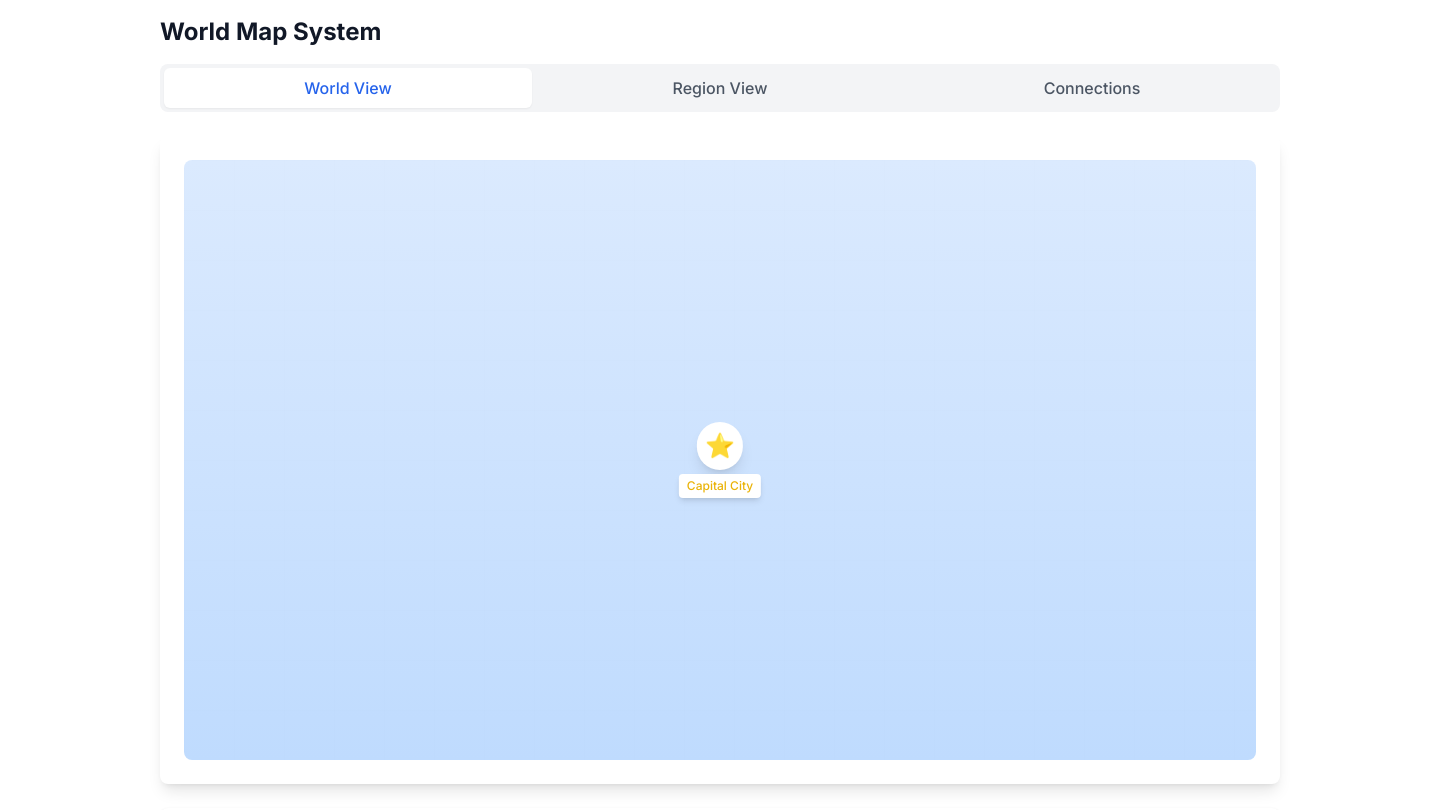
Scenario: WorldMapDisplay › Region View › should initialize with the first region selected
The image size is (1440, 810).
// Region Viewタブをクリック
Click the text "Region View". click: (720, 88)
box: 673,78 -> 767,98
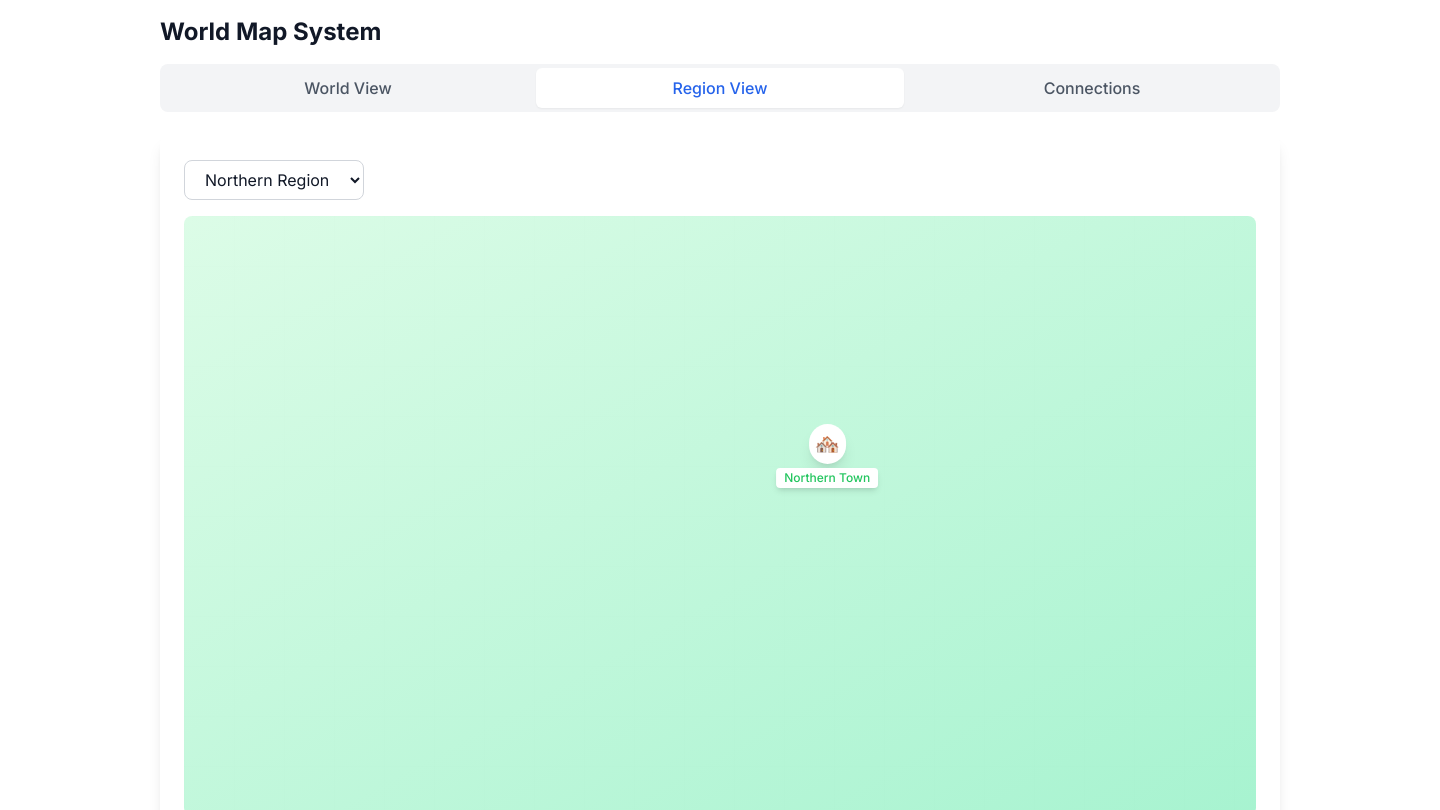
Result: the dropdown shows "Northern Region" at 184,160 -> 364,200
